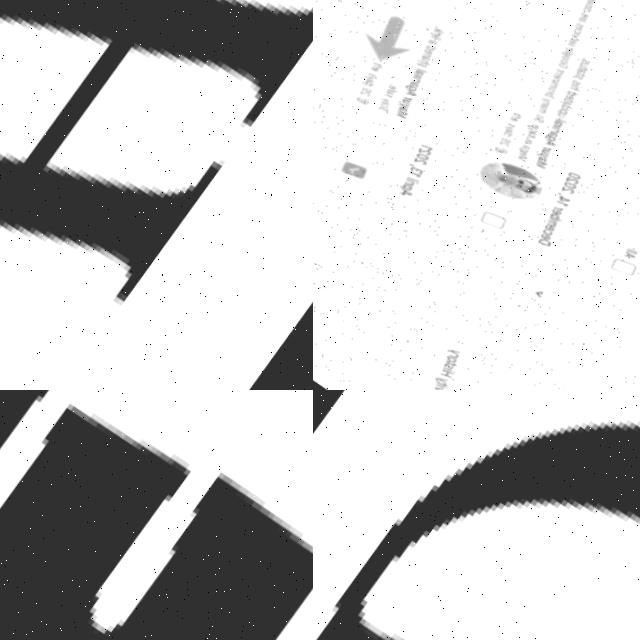0: (572, 169, 591, 185), (567, 179, 586, 194), (420, 150, 439, 165)
1: (561, 199, 577, 212), (425, 142, 441, 155), (414, 169, 429, 182)
2: (565, 183, 584, 199), (570, 174, 588, 189), (422, 145, 440, 160), (418, 156, 435, 170), (363, 89, 376, 99), (505, 140, 517, 150)
3: (413, 163, 432, 178)
4: (561, 192, 580, 208)
9: (505, 135, 519, 147), (365, 85, 378, 97)
D: (313, 390, 640, 640)
E: (0, 403, 313, 640)
